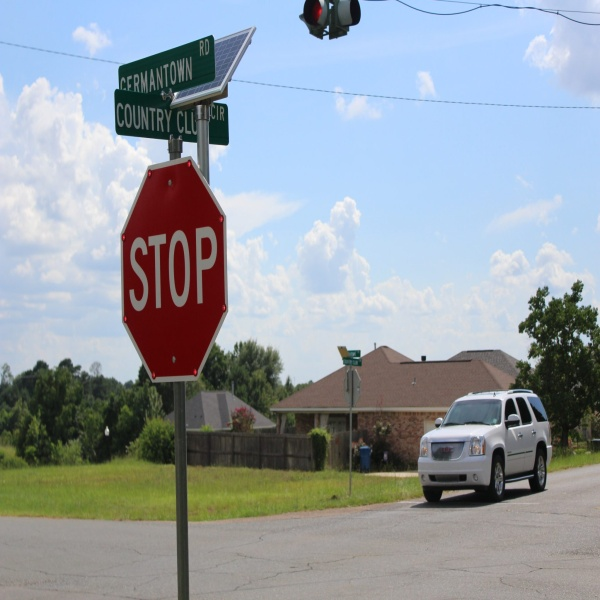stop: (110, 152, 245, 393)
